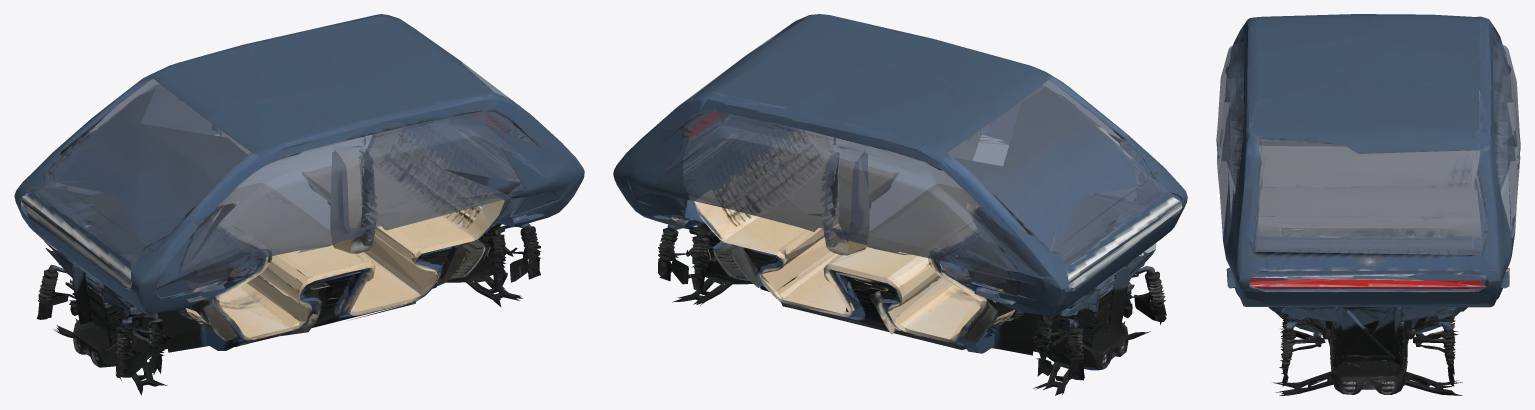
The model's file is cart-body.glb.
3 renders of one model, left to right at view 1: azimuth 30°, elevation 25°; view 2: azimuth 150°, elevation 25°; view 3: azimuth 270°, elevation 25°, orthographic. The views are drawn at different scales.
Parts seen in each view (by area): view 1: Mesh_0; view 2: Mesh_0; view 3: Mesh_0.
Boxes of the visible parts, bbox=[...] form: Mesh_0: bbox=[14, 14, 584, 395]; Mesh_0: bbox=[613, 14, 1187, 395]; Mesh_0: bbox=[1216, 14, 1520, 395].
Size of the model in its own units: 1.82 by 0.8932 by 1.
Materials: 2 (1 with a texture image).
